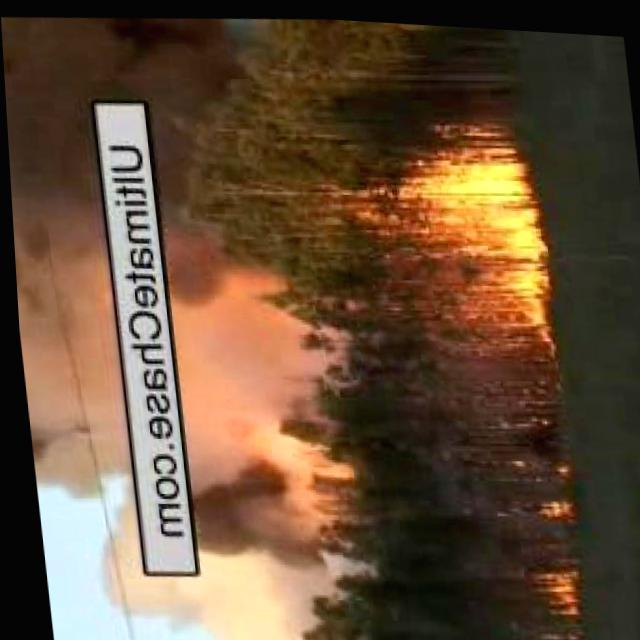Fire: (1, 12, 144, 636), (160, 225, 359, 640), (399, 147, 550, 336), (524, 560, 579, 616), (527, 485, 568, 523)
